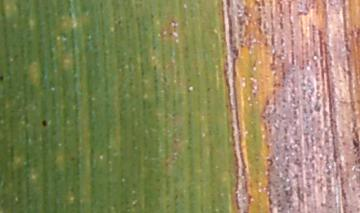tarspot: (41, 118, 48, 129), (1, 73, 5, 83)
